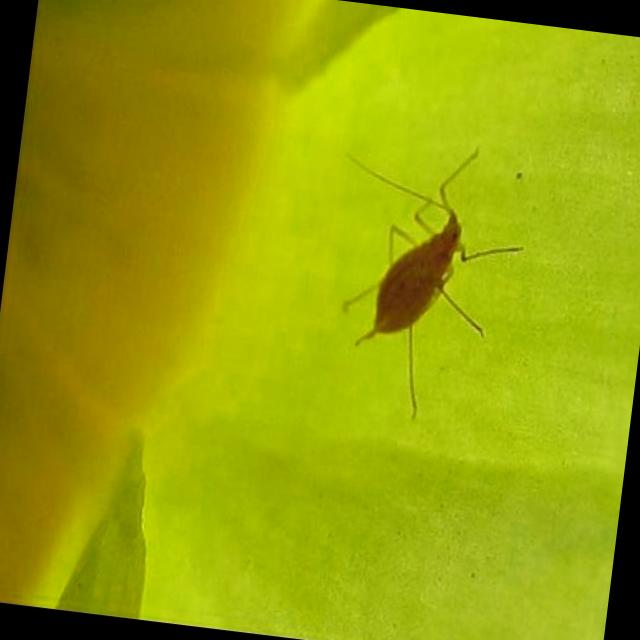aphid: (342, 157, 517, 420)
